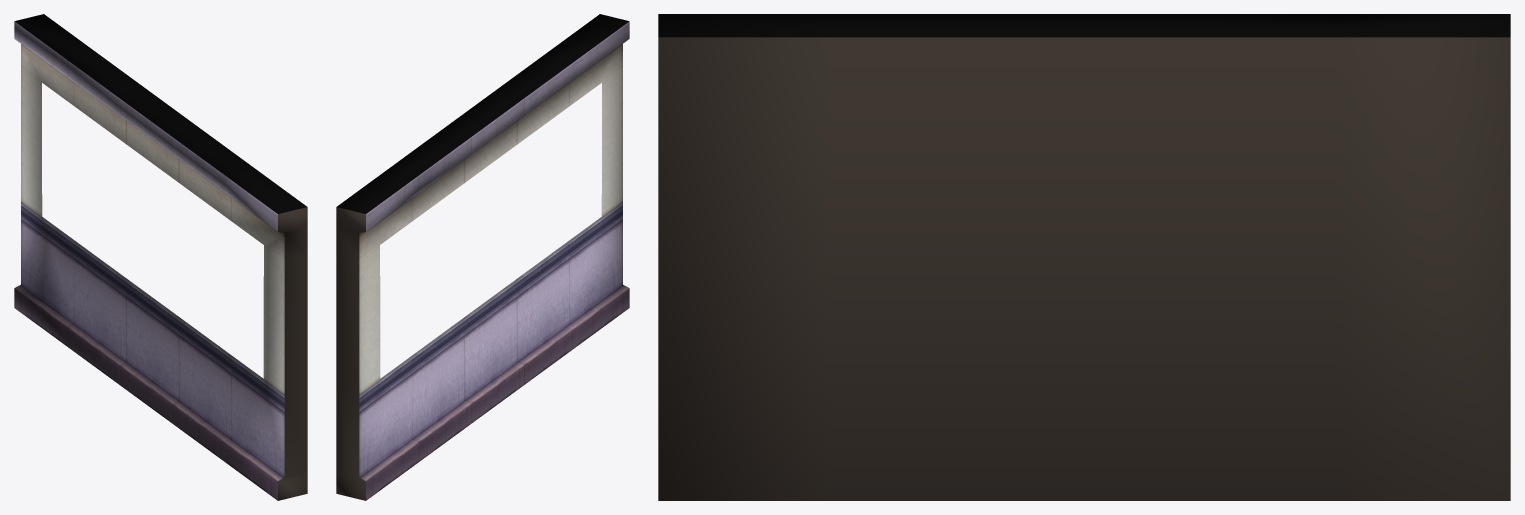
File: a_SCwall01.glb
The picture shows the model from 3 angles, left to right: view 1: azimuth 30°, elevation 25°; view 2: azimuth 150°, elevation 25°; view 3: azimuth 270°, elevation 25°; orthographic projection. The views are drawn at different scales.
Visible parts, largest first — view 1: a_SCwall01; view 2: a_SCwall01; view 3: a_SCwall01.
Part boxes in pixels (x1=…): a_SCwall01: x1=14, y1=14, x2=307, y2=500; a_SCwall01: x1=336, y1=14, x2=629, y2=500; a_SCwall01: x1=658, y1=14, x2=1510, y2=500.
Size of the model in its own units: 0.324 by 3 by 5.
1 material, 1 textured.
